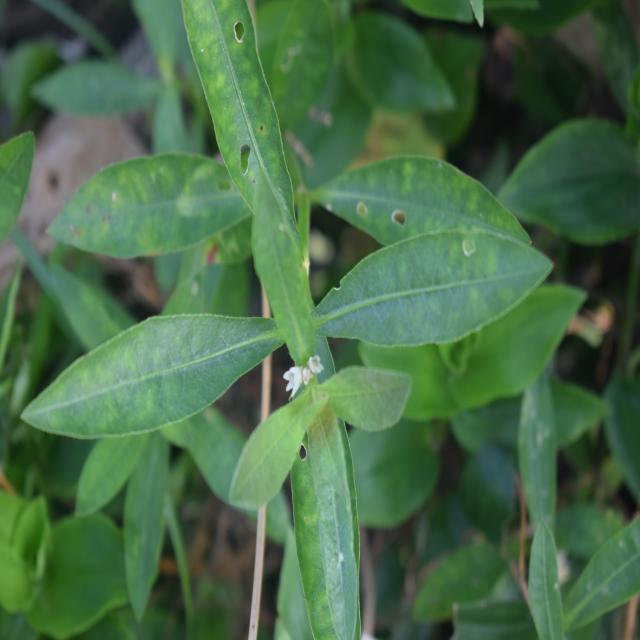Alligatorweed: (73, 57, 443, 560)
